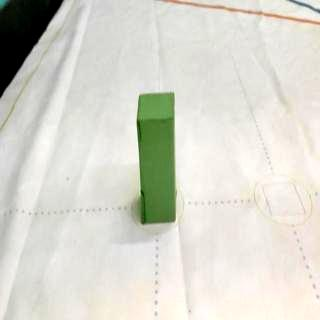greenbox: (135, 90, 181, 224)
